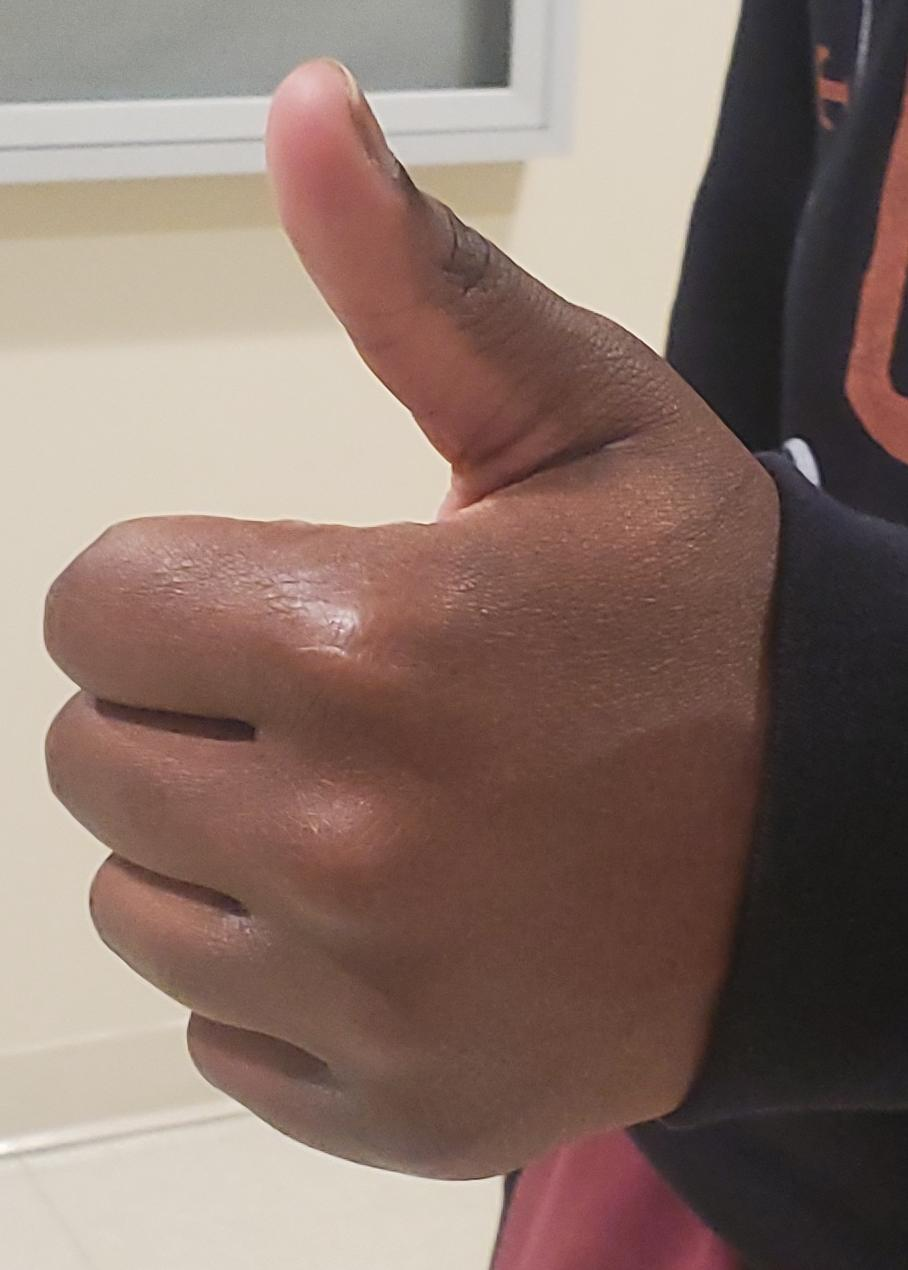up: (0, 1, 908, 1270)
